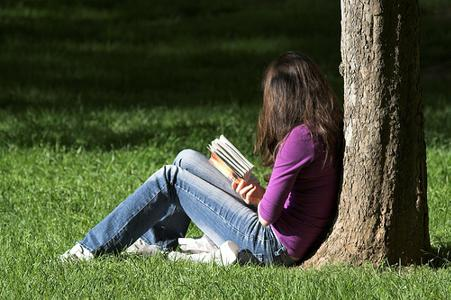person: (58, 54, 342, 271)
